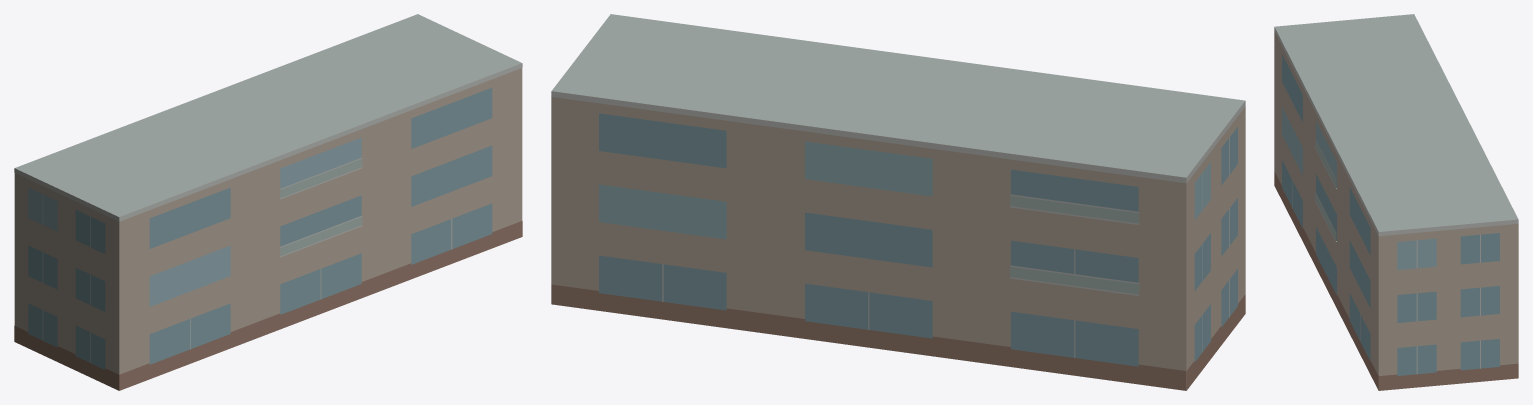
The model's file is survey-upis-32713648.glb.
3 views of the same model, side by side, from view 1: azimuth 30°, elevation 25°; view 2: azimuth 150°, elevation 25°; view 3: azimuth 270°, elevation 25° (orthographic). The views are drawn at different scales.
Parts seen in each view (by area): view 1: survey-upis-32713648.tmp; view 2: survey-upis-32713648.tmp; view 3: survey-upis-32713648.tmp.
Boxes of the visible parts, x1,y1,x2,y2 form: survey-upis-32713648.tmp: (14, 14, 522, 390); survey-upis-32713648.tmp: (551, 14, 1245, 390); survey-upis-32713648.tmp: (1274, 14, 1518, 390).
Bounding box in the file's own units: 26.94 × 9.15 × 12.76.
